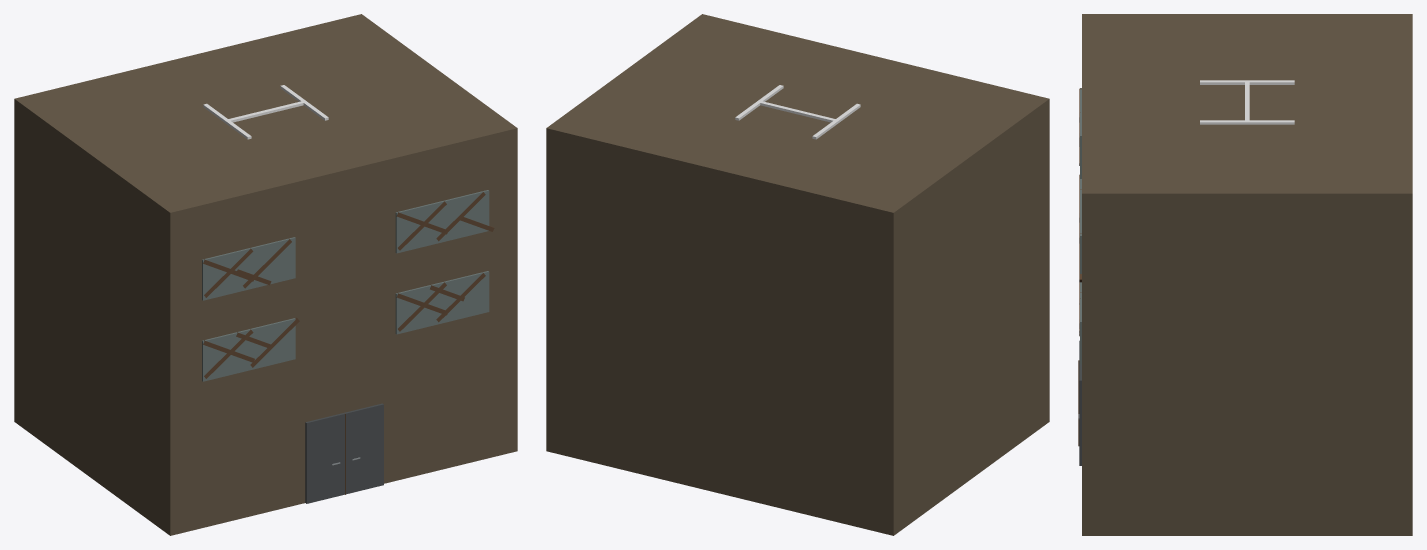
Rendered from klinik.glb.
3 renders of one model, left to right at view 1: azimuth 30°, elevation 25°; view 2: azimuth 150°, elevation 25°; view 3: azimuth 270°, elevation 25°, orthographic. The views are drawn at different scales.
Visible parts, largest first — view 1: fenster.003; view 2: fenster.003; view 3: fenster.003.
Part boxes in pixels (bbox=[...]): fenster.003: bbox=[14, 14, 517, 535]; fenster.003: bbox=[546, 14, 1049, 535]; fenster.003: bbox=[1078, 14, 1412, 535].
Size of the model in its own units: 9 by 8.06 by 7.08.
